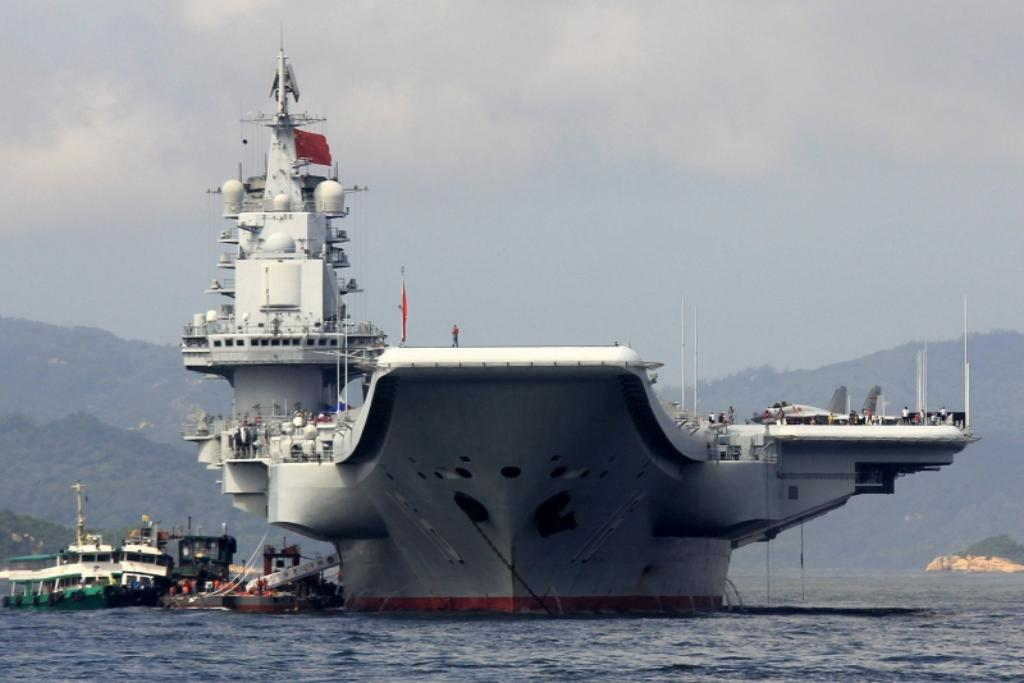Warship: (185, 6, 979, 620)
